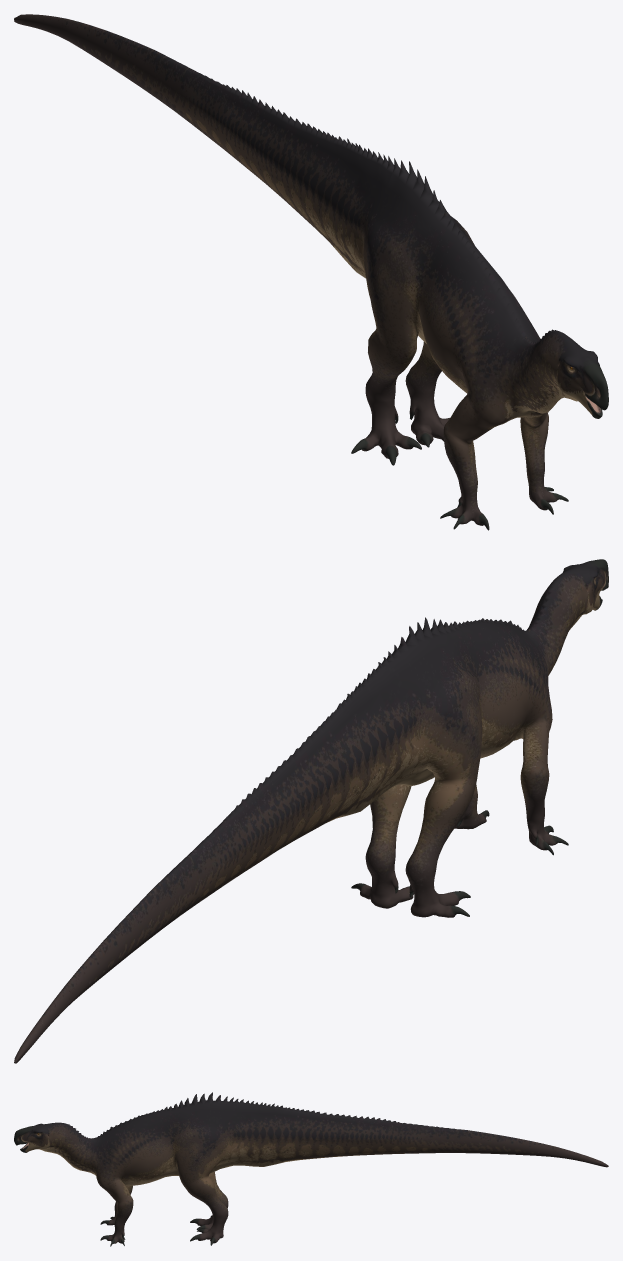
File: Tenontosaurio.glb
The picture shows the model from 3 angles, top to bottom: view 1: azimuth 30°, elevation 25°; view 2: azimuth 150°, elevation 25°; view 3: azimuth 270°, elevation 25°; orthographic projection. The views are drawn at different scales.
Parts seen in each view (by area): view 1: DW_Tenontosaurio_Adulto_Mayor_mesh; view 2: DW_Tenontosaurio_Adulto_Mayor_mesh; view 3: DW_Tenontosaurio_Adulto_Mayor_mesh.
Boxes of the visible parts, x1,y1,x2,y2 form: DW_Tenontosaurio_Adulto_Mayor_mesh: (14,14,608,530); DW_Tenontosaurio_Adulto_Mayor_mesh: (14,559,608,1063); DW_Tenontosaurio_Adulto_Mayor_mesh: (14,1092,608,1246).
Size of the model in its own units: 0.115 by 0.2607 by 1.
Materials: 2 (2 with a texture image).
